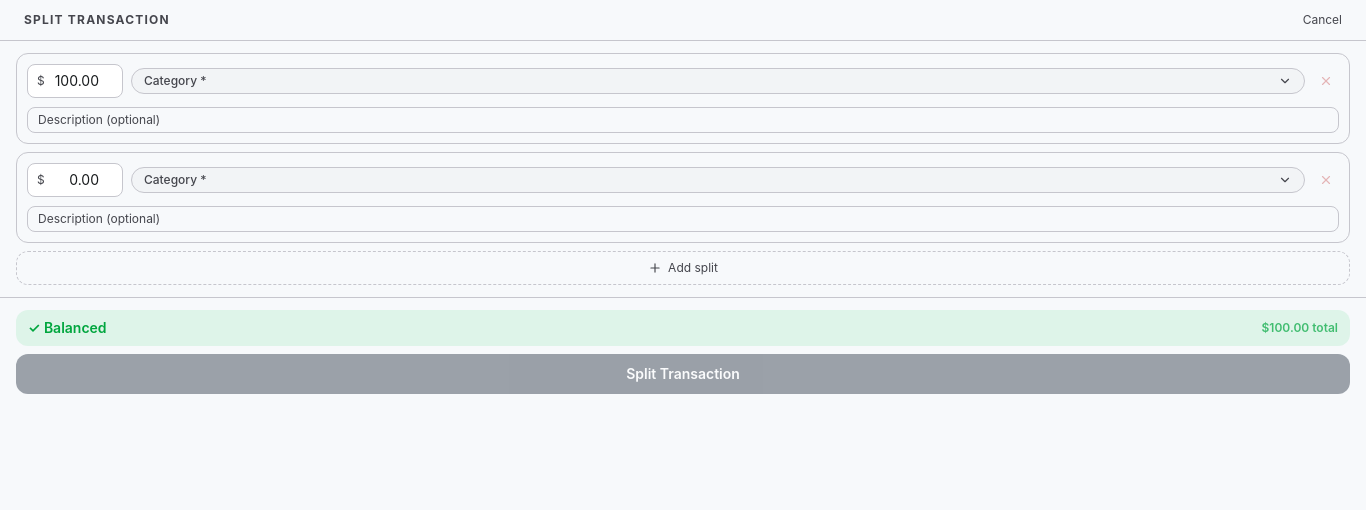
Test: SplitTransactionEditor › adds and removes rows correctly
The image size is (1366, 510).
Check: the number of number fields is 2, box [27,64,123,98]; [27,163,123,197]
// Add a row
Step 1. Click the button "Add split" → (683, 268), box [16,251,1350,285]
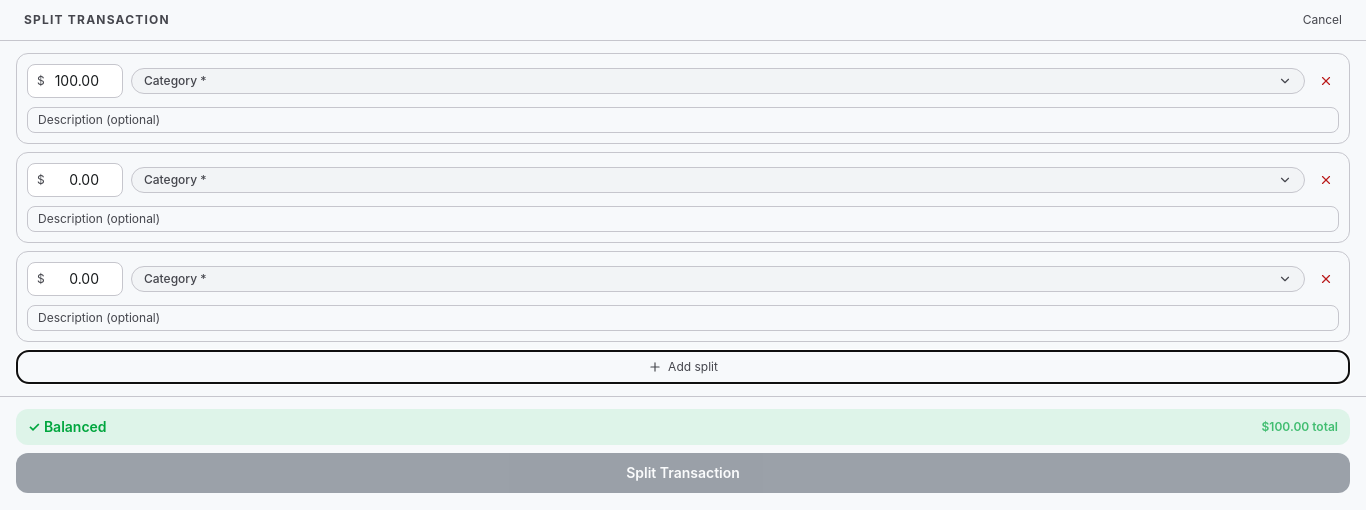
Check: the number of number fields is 3, box [27,64,123,98]; [27,163,123,197]; [27,262,123,296]
Check: the 3rd button named "remove row" is enabled
// Remove the third row
Step 2. Click the 3rd button named "remove row" → (1326, 279), box [1313,266,1339,292]
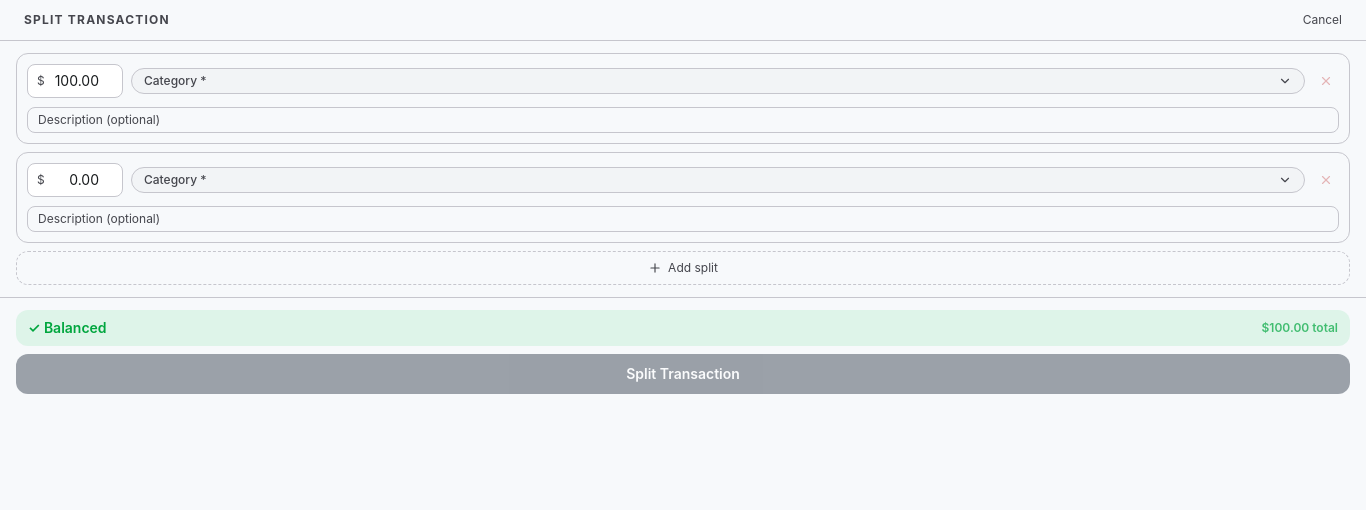
Check: the number of number fields is 2, box [27,64,123,98]; [27,163,123,197]
